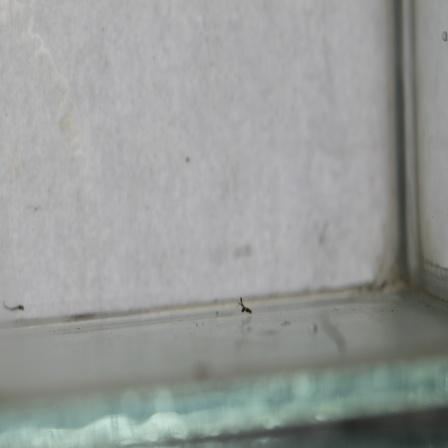Jentik-Nyamuk: (234, 293, 256, 316), (1, 298, 28, 316)
